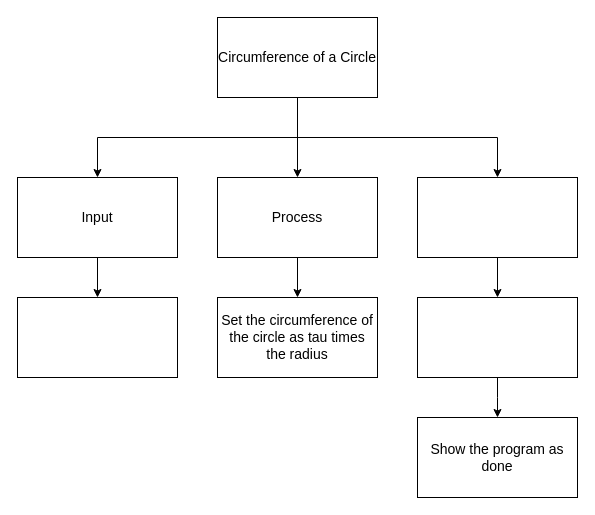
Some shapes in this 595 by 515 pixel diagram are drawn without their labels. Here are the shapes that lost their labels. From the top down, the centre of each, then its label:
pixel 497 217: Output
pixel 97 337: Set the radius of the circle
pixel 497 337: Show the circumference of the circle
